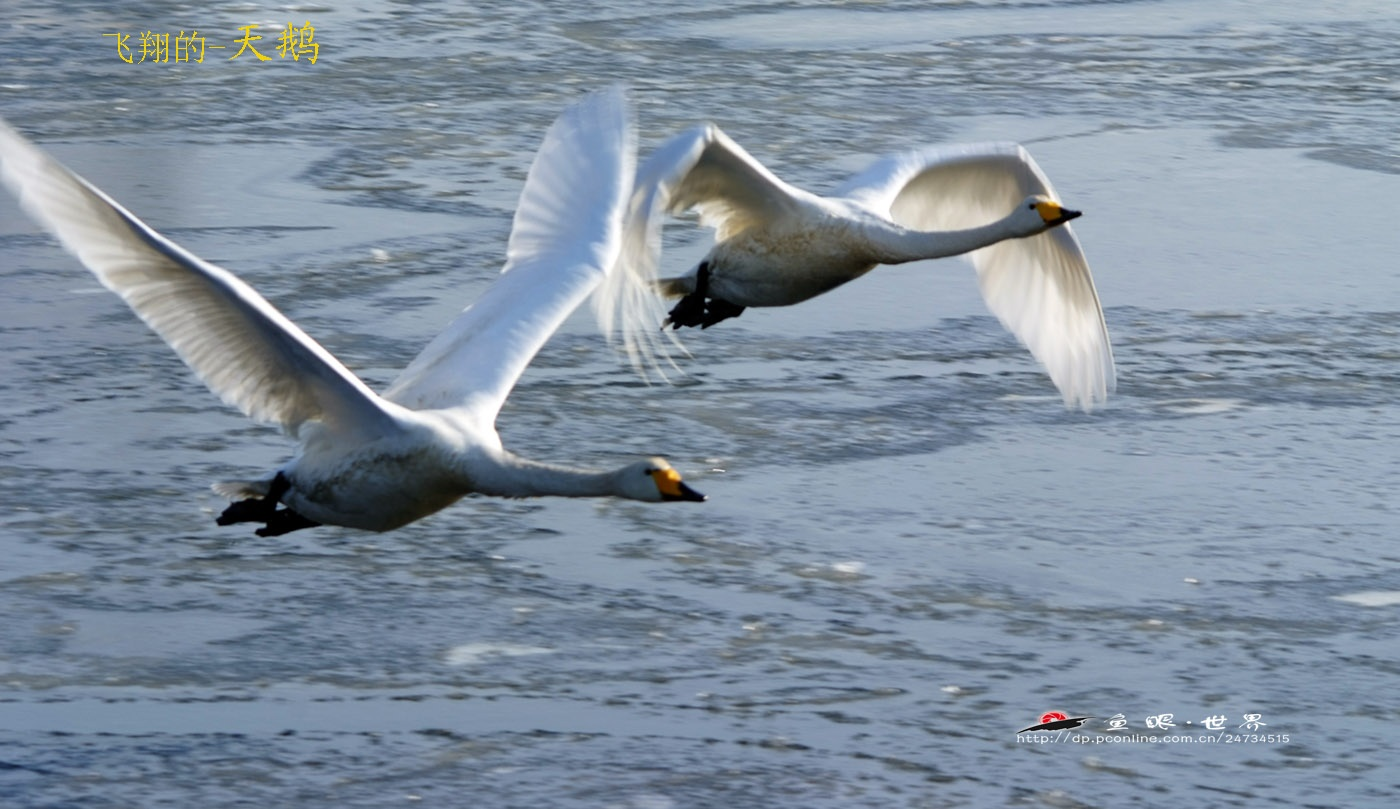bird: (11, 87, 712, 542), (556, 137, 1128, 416)
